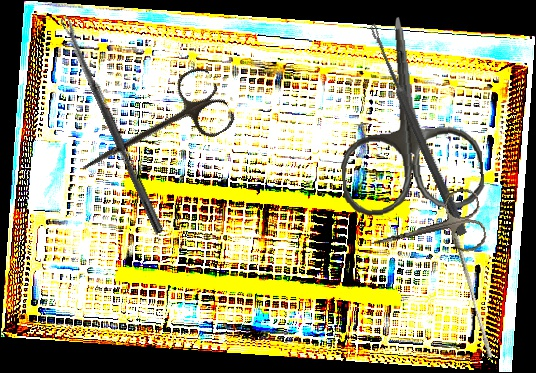Iris Scissors: (328, 9, 487, 219), (67, 62, 239, 202), (363, 186, 489, 273)
Pusher: (447, 231, 498, 359)
Surgical Spoon: (60, 15, 165, 235), (365, 22, 470, 237)
